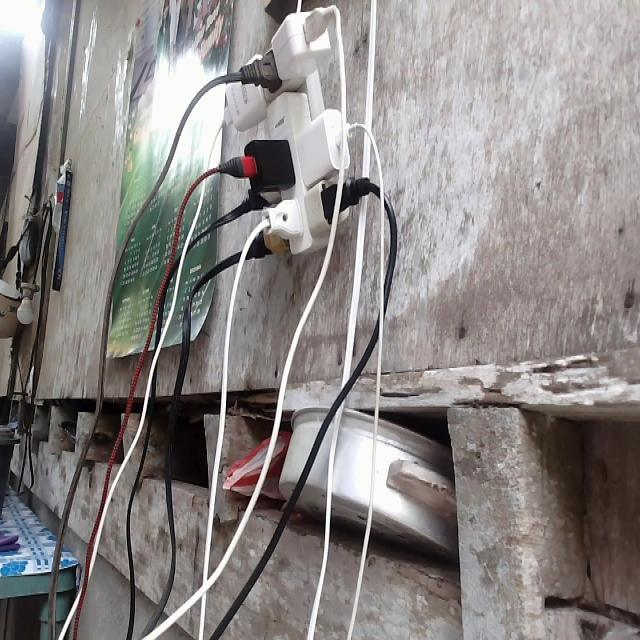-: (221, 5, 352, 256)
